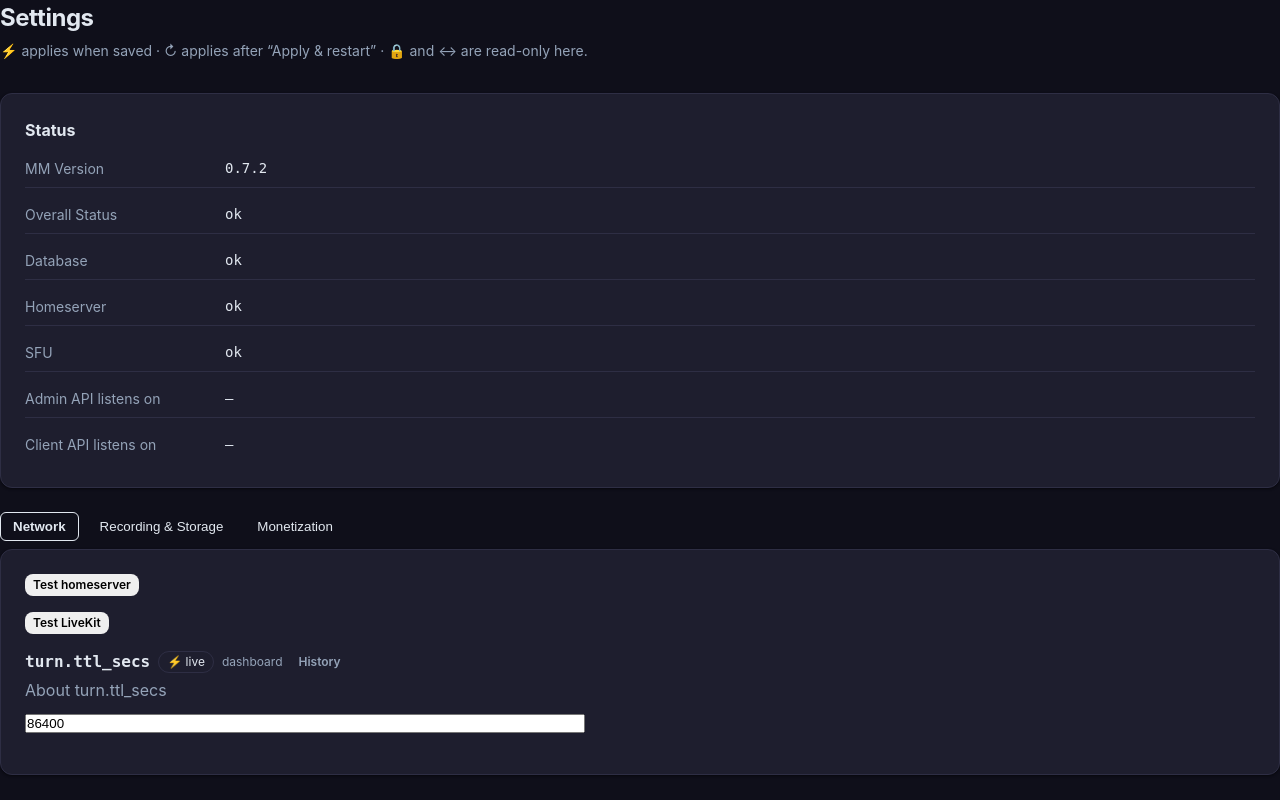
SettingsPage › does not claim a change applied live when MM_SETTINGS_SAFE_MODE is set
Expected: the tab "Network" is shown, [0,512,79,541]
Replace the text in the number field labelled "turn.ttl_secs" with "3600" at {"x": 305, "y": 724}, box [25,714,585,733]
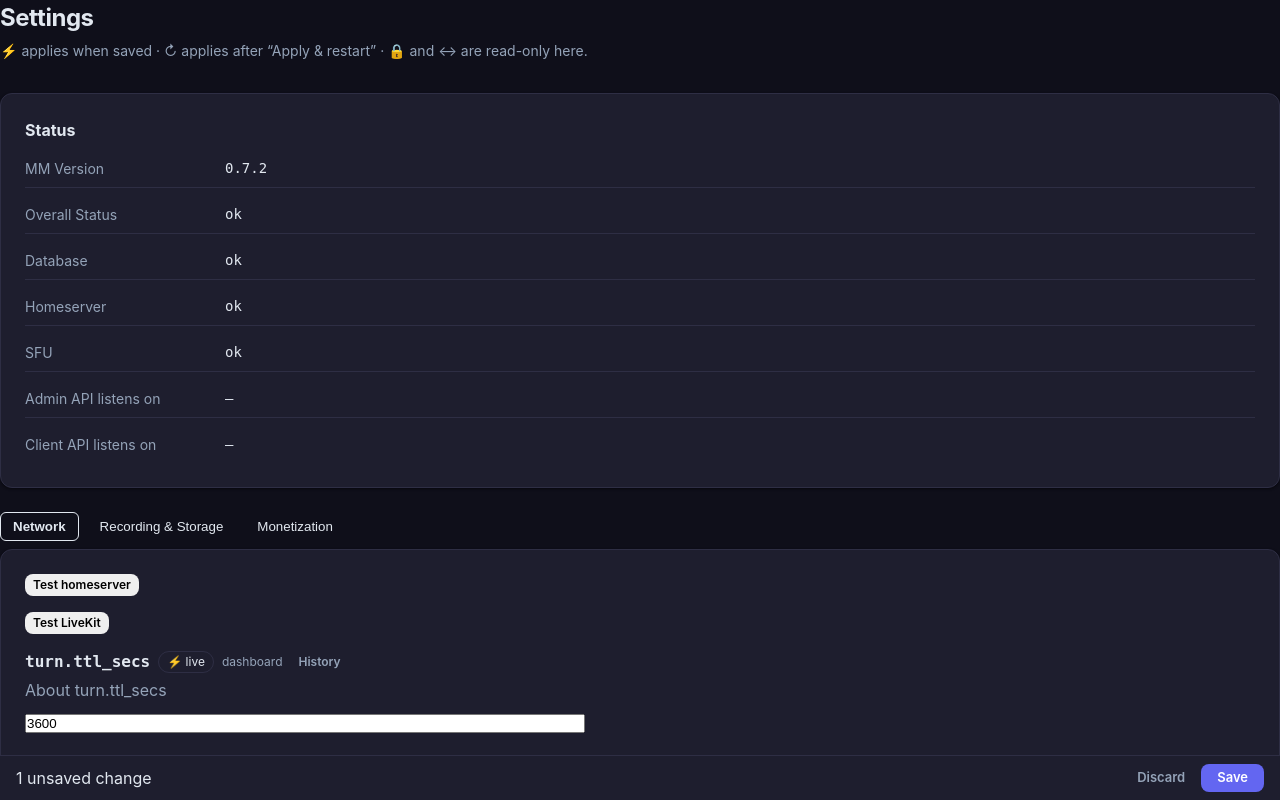
Click the button "Save" at {"x": 1233, "y": 778}, box [1201,764,1264,792]
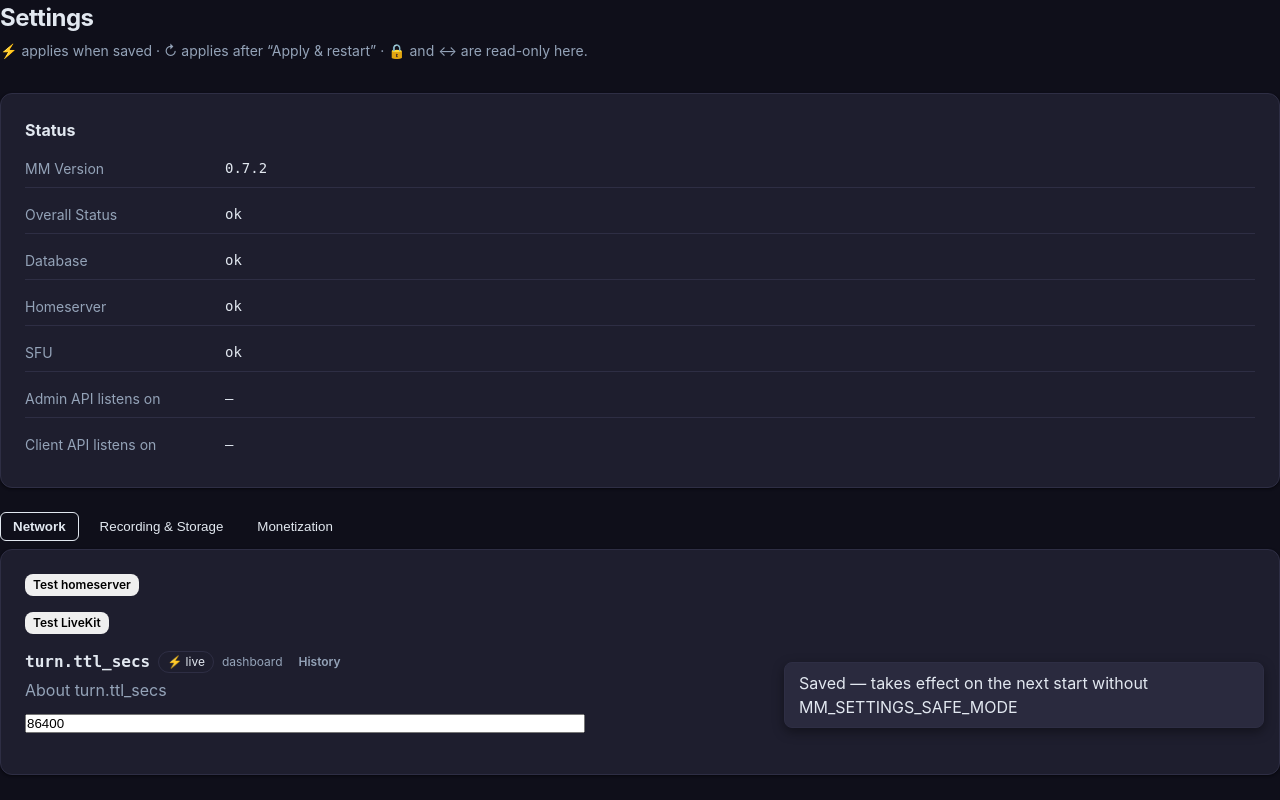
Expected: the text "Saved — takes effect on the next start without MM_SETTINGS_SAFE_MODE" is shown, [784,662,1264,728]
